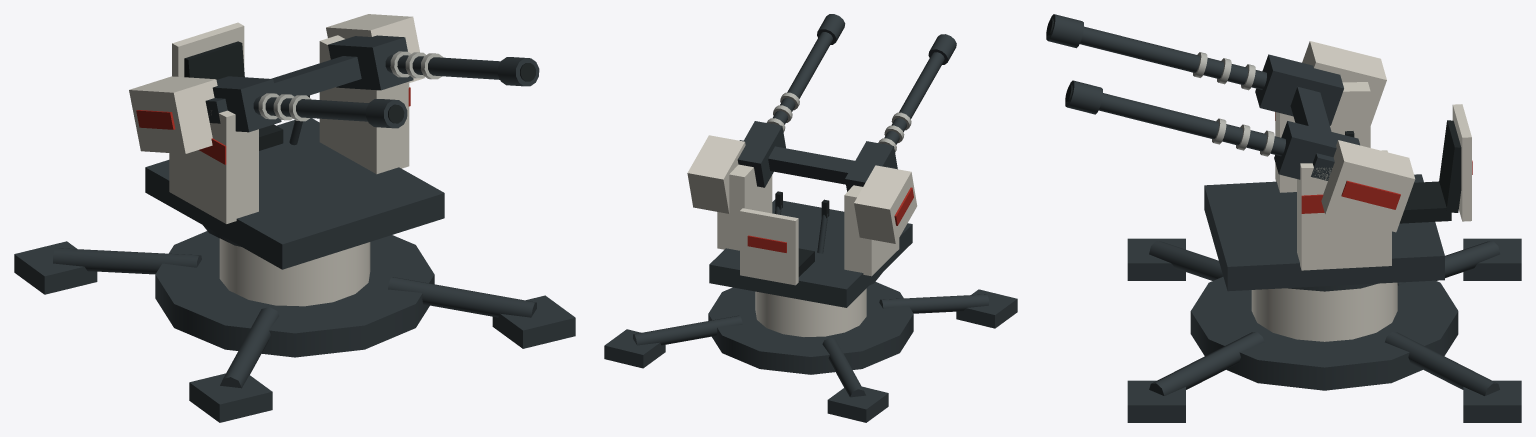
3 renders of one model, left to right at view 1: azimuth 30°, elevation 25°; view 2: azimuth 150°, elevation 25°; view 3: azimuth 270°, elevation 25°, orthographic. The views are drawn at different scales.
Parts seen in each view (by area): view 1: aa-gun-manned-fleet-machine, turret-fleet-machine, turret-fleet-armor, elevation-fleet-armor, aa-gun-manned-fleet-armor, aa-barrel-right-fleet-machine, aa-barrel-left-fleet-machine, elevation-fleet-machine, turret-fleet-rubber, aa-barrel-right-fleet-edge, aa-barrel-left-fleet-edge, elevation-fleet-red; view 2: aa-gun-manned-fleet-machine, turret-fleet-armor, turret-fleet-machine, elevation-fleet-armor, aa-gun-manned-fleet-armor, aa-barrel-right-fleet-machine, aa-barrel-left-fleet-machine, elevation-fleet-machine, turret-fleet-rubber, turret-fleet-red, aa-barrel-left-fleet-edge, aa-barrel-right-fleet-edge; view 3: aa-gun-manned-fleet-machine, turret-fleet-machine, turret-fleet-armor, elevation-fleet-armor, aa-barrel-left-fleet-machine, aa-gun-manned-fleet-armor, aa-barrel-right-fleet-machine, turret-fleet-rubber, elevation-fleet-machine, elevation-fleet-red, aa-barrel-right-fleet-edge, aa-barrel-left-fleet-edge (+1 smaller).
Boxes of the visible parts, x1,y1,x2,y2 form: aa-gun-manned-fleet-machine: (14,225,575,422); turret-fleet-machine: (145,118,444,269); turret-fleet-armor: (169,22,409,223); elevation-fleet-armor: (129,14,424,153); aa-gun-manned-fleet-armor: (219,238,370,306); aa-barrel-right-fleet-machine: (328,35,539,90); aa-barrel-left-fleet-machine: (212,76,407,132); elevation-fleet-machine: (205,56,361,123); turret-fleet-rubber: (184,41,309,150); aa-barrel-right-fleet-edge: (390,51,443,79); aa-barrel-left-fleet-edge: (258,93,311,121); elevation-fleet-red: (136,110,175,129); aa-gun-manned-fleet-machine: (604,273,1017,422); turret-fleet-armor: (717,164,899,285); turret-fleet-machine: (709,199,912,307); elevation-fleet-armor: (687,135,917,243); aa-gun-manned-fleet-armor: (755,288,866,336); aa-barrel-right-fleet-machine: (737,14,845,187); aa-barrel-left-fleet-machine: (845,34,956,191); elevation-fleet-machine: (739,140,894,184); turret-fleet-rubber: (775,191,829,276); turret-fleet-red: (747,235,786,252); aa-barrel-left-fleet-edge: (878,112,911,152); aa-barrel-right-fleet-edge: (766,92,799,132); aa-gun-manned-fleet-machine: (1127,238,1521,422); turret-fleet-machine: (1204,174,1444,291); turret-fleet-armor: (1275,82,1471,270); elevation-fleet-armor: (1302,41,1415,232); aa-barrel-left-fleet-machine: (1046,14,1343,125); aa-gun-manned-fleet-armor: (1251,282,1397,341); aa-barrel-right-fleet-machine: (1065,80,1359,179); turret-fleet-rubber: (1345,120,1461,223); elevation-fleet-machine: (1290,86,1334,180); elevation-fleet-red: (1341,180,1400,209); aa-barrel-right-fleet-edge: (1212,118,1274,156); aa-barrel-left-fleet-edge: (1193,52,1255,90).
Size of the model in its own units: 16.77 by 14.29 by 20.23.
